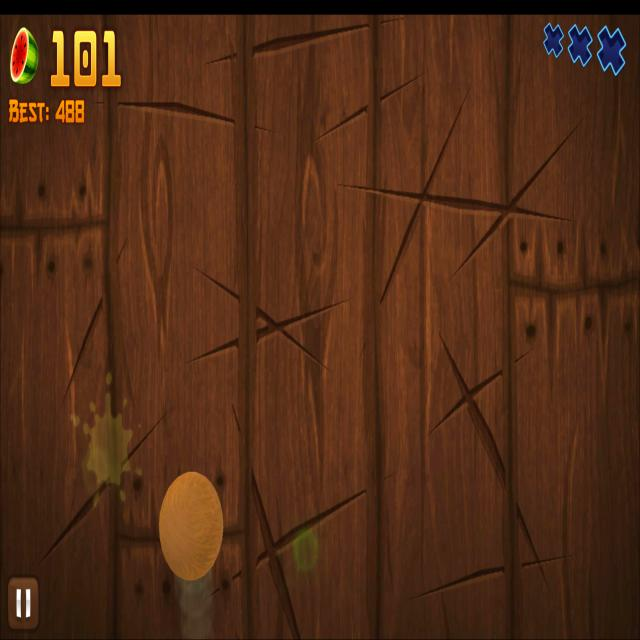fruit: (159, 468, 224, 583)
